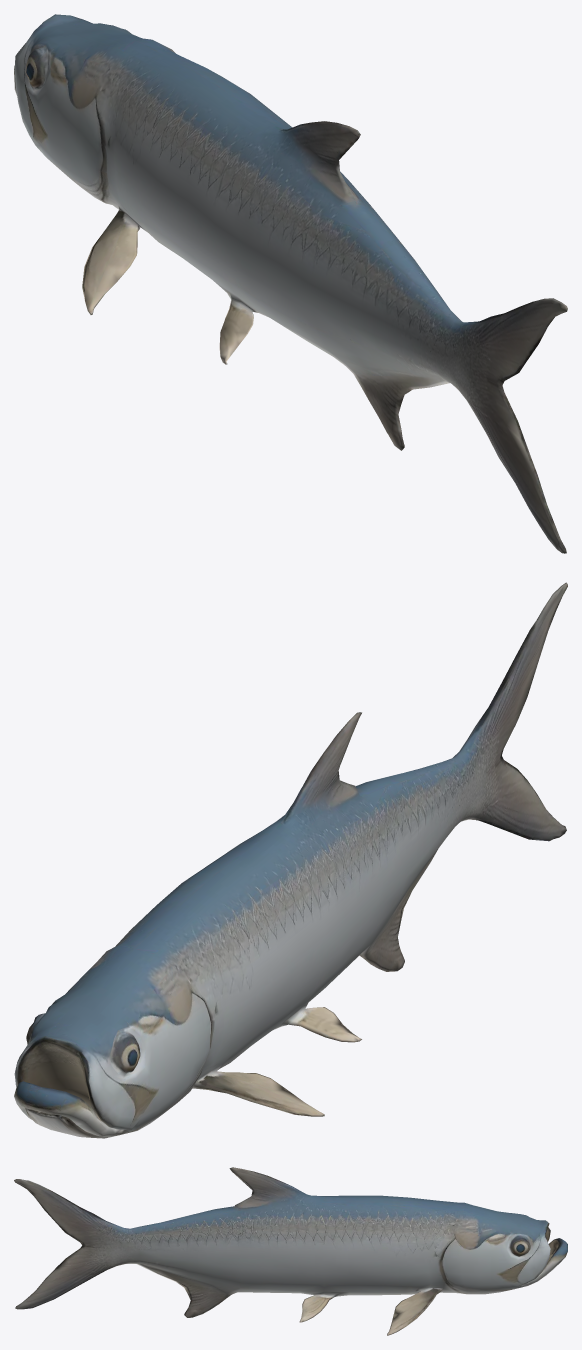
File: tarpon.glb
3 views of the same model, one above another, from view 1: azimuth 30°, elevation 25°; view 2: azimuth 150°, elevation 25°; view 3: azimuth 270°, elevation 25° (orthographic). The views are drawn at different scales.
Parts seen in each view (by area): view 1: tripo_node_8ab8d602-4a54-4628-9b88-0bd10cc729c6; view 2: tripo_node_8ab8d602-4a54-4628-9b88-0bd10cc729c6; view 3: tripo_node_8ab8d602-4a54-4628-9b88-0bd10cc729c6.
Part boxes in pixels (left/top/right/bottom): tripo_node_8ab8d602-4a54-4628-9b88-0bd10cc729c6: left=14, top=14, right=567, bottom=553; tripo_node_8ab8d602-4a54-4628-9b88-0bd10cc729c6: left=14, top=582, right=567, bottom=1138; tripo_node_8ab8d602-4a54-4628-9b88-0bd10cc729c6: left=14, top=1167, right=567, bottom=1335.
Bounding box in the file's own units: 0.6745 × 0.8 × 2.67.
Materials: 1 (1 with a texture image).
